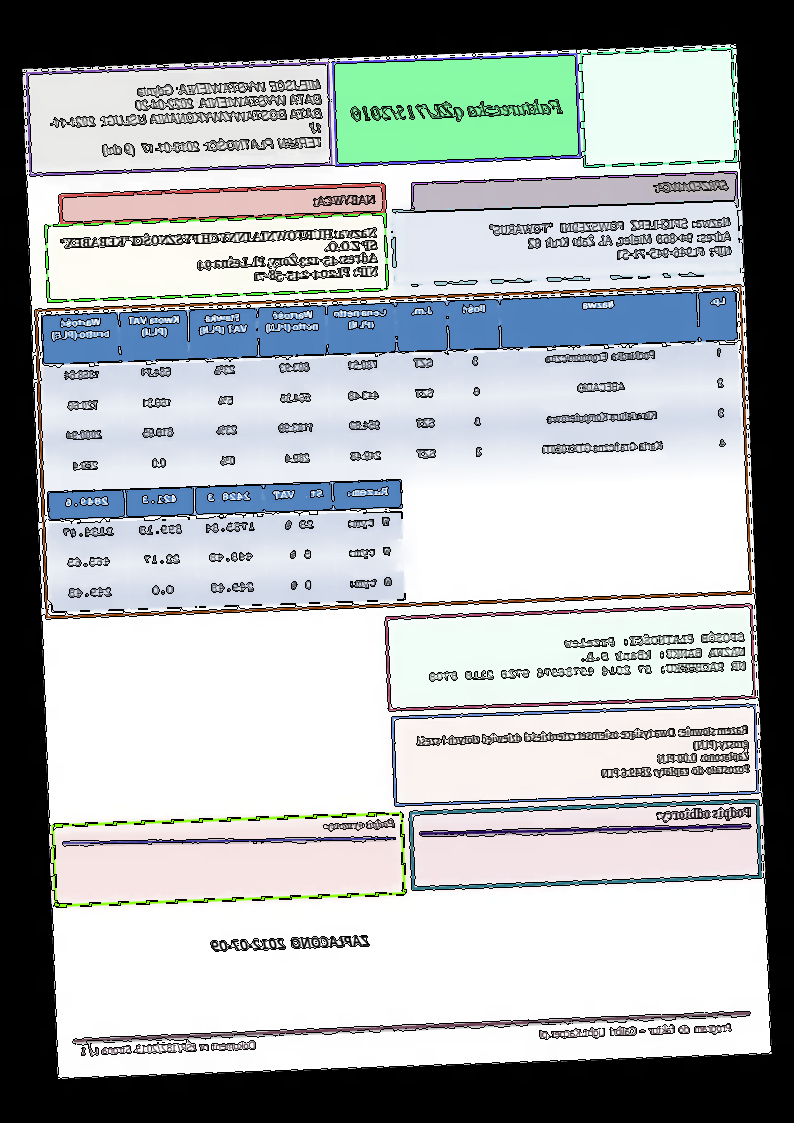Table: (42, 287, 744, 489), (46, 477, 407, 615)
TextBox: (47, 76, 325, 163), (415, 721, 752, 788), (55, 224, 382, 290), (426, 628, 749, 686), (486, 211, 735, 269), (349, 94, 568, 126), (538, 1018, 735, 1043), (78, 1036, 257, 1059), (208, 930, 372, 955), (655, 802, 755, 825), (322, 813, 398, 833), (654, 176, 731, 195), (313, 191, 379, 210)
